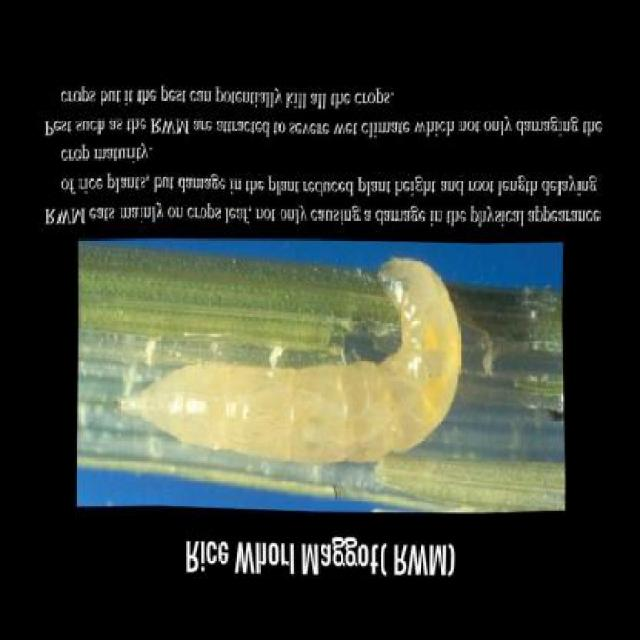whorl-maggot: (114, 254, 468, 472)
